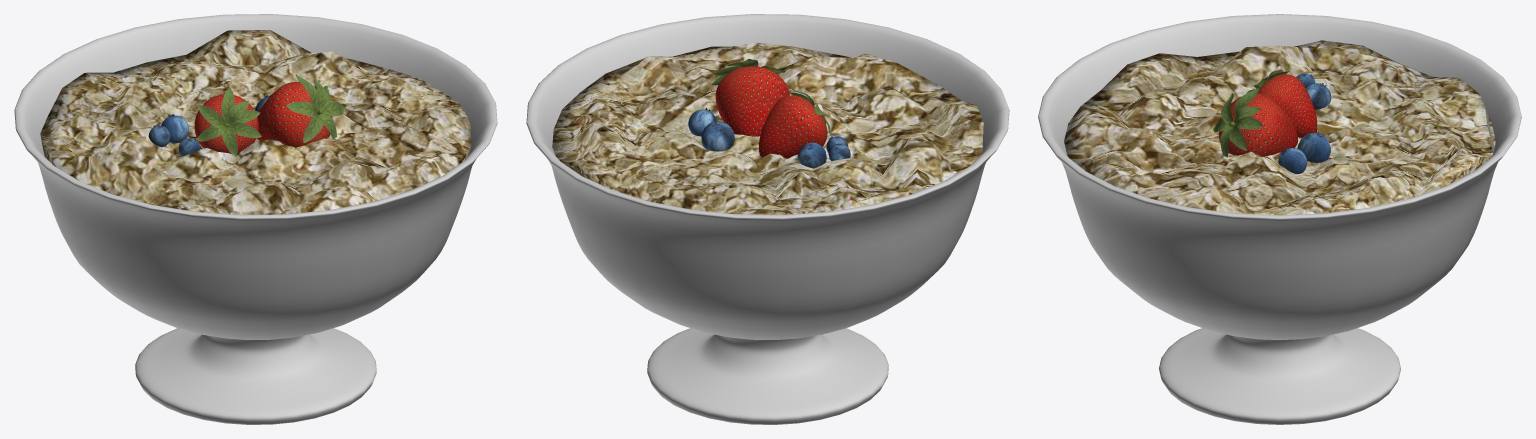
File: oatmeal.fbx
3 renders of one model, left to right at view 1: azimuth 30°, elevation 25°; view 2: azimuth 150°, elevation 25°; view 3: azimuth 270°, elevation 25°, orthographic.
Parts seen in each view (by area): view 1: Bowl (exterior), Oatmeal, Bowl (interior), Strawberry1, Strawberry2, blueberry2; view 2: Bowl (exterior), Oatmeal, Bowl (interior), Strawberry1, Strawberry2, blueberry3, blueberry2, blueberry1; view 3: Bowl (exterior), Oatmeal, Bowl (interior), Strawberry1, Strawberry2, blueberry3, blueberry1, blueberry2.
Part boxes in pixels (left/top/right/bottom): Bowl (exterior): left=14, top=65, right=497, bottom=424; Oatmeal: left=40, top=30, right=471, bottom=214; Bowl (interior): left=15, top=14, right=496, bottom=217; Strawberry1: left=257, top=74, right=345, bottom=147; Strawberry2: left=194, top=88, right=261, bottom=156; blueberry2: left=161, top=114, right=189, bottom=143; Bowl (exterior): left=526, top=65, right=1009, bottom=424; Oatmeal: left=552, top=42, right=983, bottom=214; Bowl (interior): left=527, top=14, right=1008, bottom=217; Strawberry1: left=711, top=59, right=789, bottom=136; Strawberry2: left=759, top=89, right=831, bottom=158; blueberry3: left=701, top=121, right=734, bottom=151; blueberry2: left=798, top=142, right=826, bottom=168; blueberry1: left=688, top=108, right=716, bottom=136; Bowl (exterior): left=1038, top=62, right=1521, bottom=424; Oatmeal: left=1064, top=40, right=1495, bottom=215; Bowl (interior): left=1039, top=14, right=1520, bottom=217; Strawberry1: left=1213, top=88, right=1297, bottom=157; Strawberry2: left=1247, top=70, right=1317, bottom=137; blueberry3: left=1297, top=131, right=1330, bottom=162; blueberry1: left=1278, top=148, right=1307, bottom=173; blueberry2: left=1306, top=83, right=1331, bottom=109.
Bounding box in the file's own units: 1.17 × 0.8072 × 1.17.
